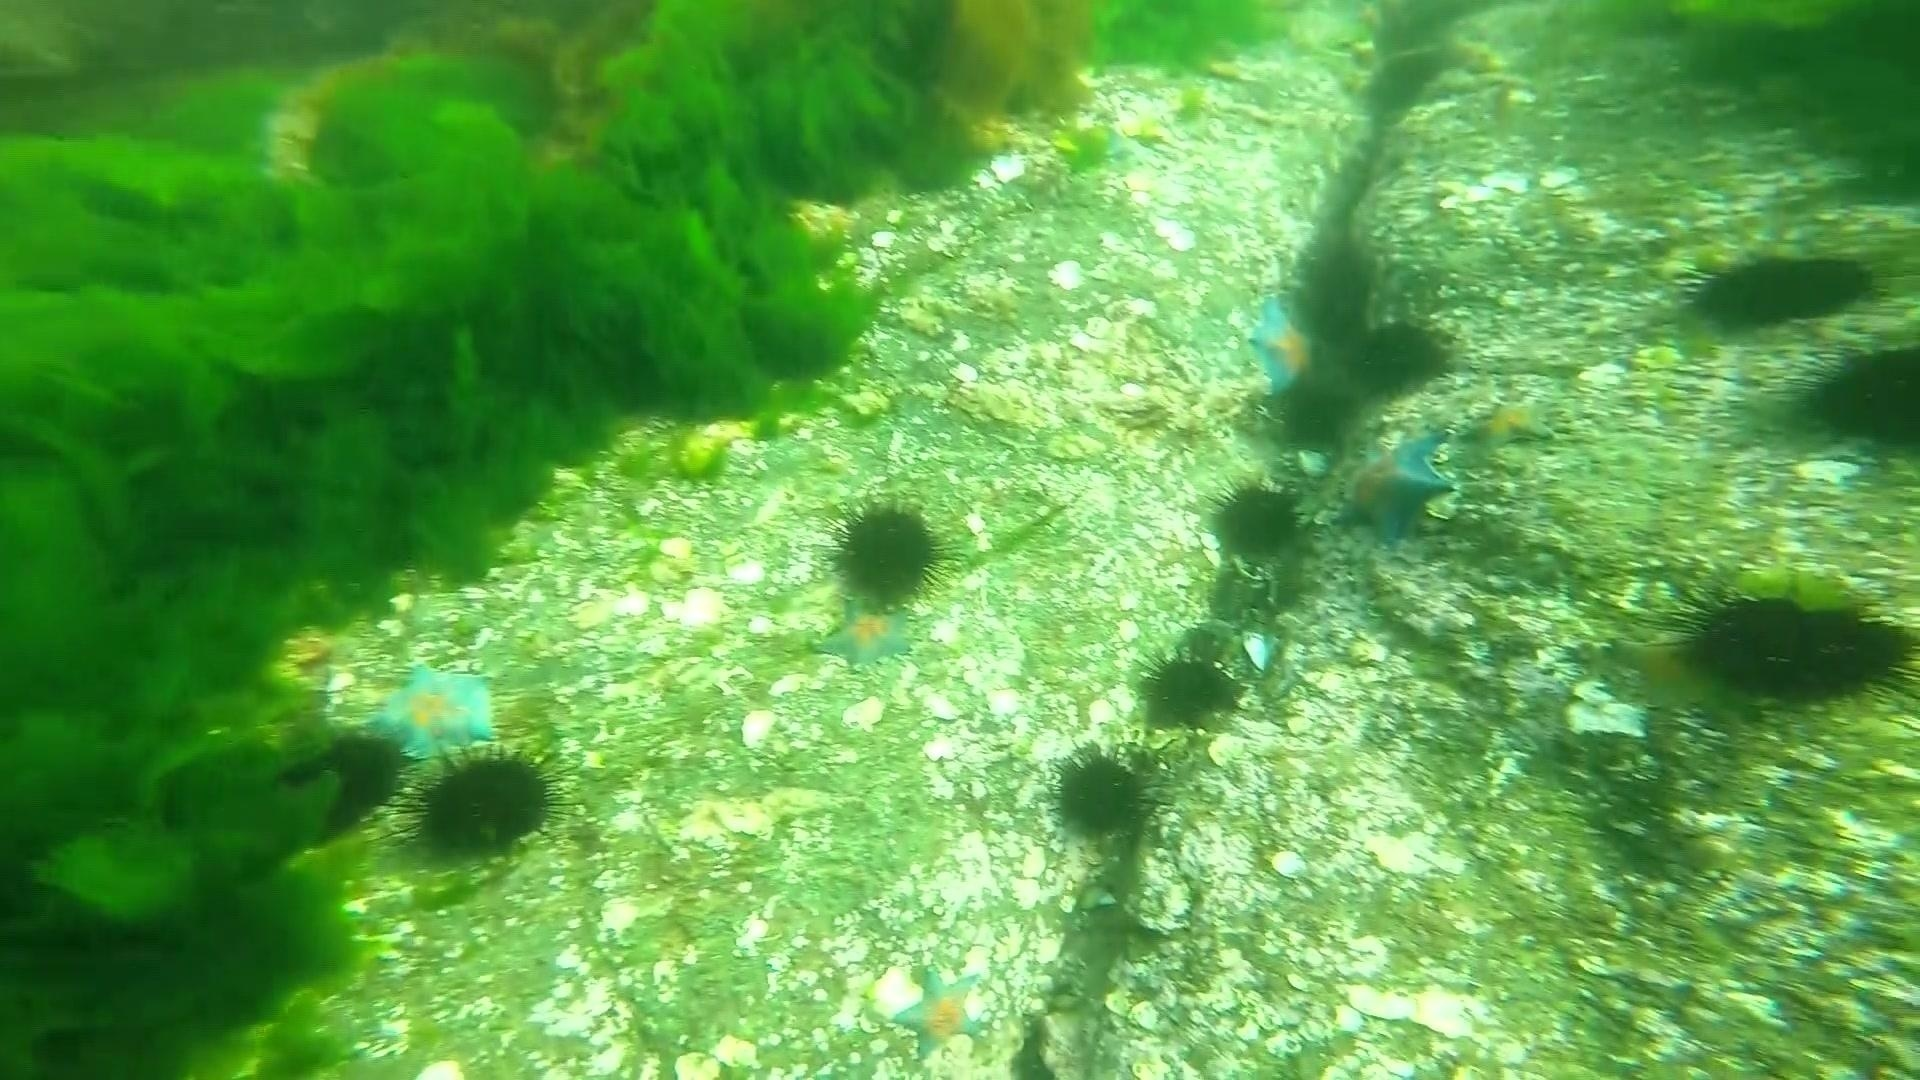echinus: (1662, 566, 1915, 712), (392, 742, 567, 868), (1683, 244, 1878, 338), (1792, 334, 1920, 455), (825, 495, 953, 611), (1044, 740, 1164, 847), (1133, 644, 1247, 736), (1345, 313, 1458, 400), (1298, 237, 1385, 348), (1207, 476, 1308, 567), (1274, 378, 1357, 455)
starfish: (1329, 422, 1458, 549), (1600, 630, 1749, 731), (363, 659, 502, 766), (890, 960, 1000, 1065), (1242, 289, 1323, 405), (812, 603, 920, 673), (1469, 394, 1563, 454)
